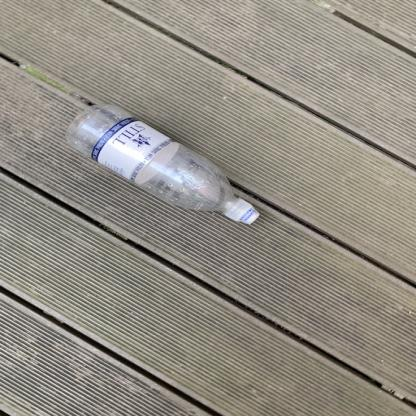trash: (66, 105, 263, 227)
